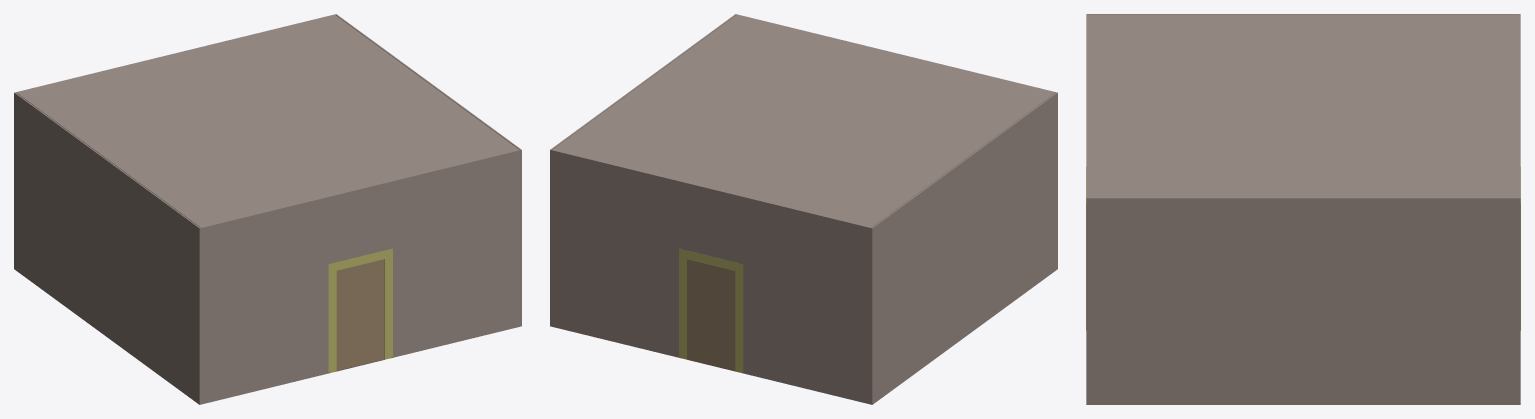
Rendered from Room40_StairsFromBasement.fbx.
3 views of the same model, side by side, from view 1: azimuth 30°, elevation 25°; view 2: azimuth 150°, elevation 25°; view 3: azimuth 270°, elevation 25° (orthographic). The views are drawn at different scales.
Visible parts, largest first — view 1: Roof, WallSlicedPosZ, WallPosX, DoorPosZ, DoorFramePosZ, WallNegX; view 2: Roof, WallSlicedNegZ, WallPosX, DoorNegZ, DoorFrameNegZ, WallNegX; view 3: WallNegX, Roof, WallPosX.
Boxes of the visible parts, x1=… form: Roof: x1=17, y1=15, x2=518, y2=227; WallSlicedPosZ: x1=199, y1=149, x2=521, y2=404; WallPosX: x1=14, y1=92, x2=201, y2=404; DoorPosZ: x1=336, y1=259, x2=384, y2=370; DoorFramePosZ: x1=328, y1=248, x2=392, y2=372; WallNegX: x1=335, y1=14, x2=521, y2=326; Roof: x1=553, y1=15, x2=1054, y2=227; WallSlicedNegZ: x1=550, y1=149, x2=872, y2=404; WallPosX: x1=870, y1=92, x2=1057, y2=404; DoorNegZ: x1=687, y1=259, x2=735, y2=370; DoorFrameNegZ: x1=679, y1=248, x2=743, y2=372; WallNegX: x1=550, y1=14, x2=735, y2=326; WallNegX: x1=1086, y1=197, x2=1520, y2=404; Roof: x1=1088, y1=15, x2=1518, y2=197; WallPosX: x1=1086, y1=14, x2=1520, y2=14.
Bounding box in the file's own units: 100 × 52.5 × 100.
